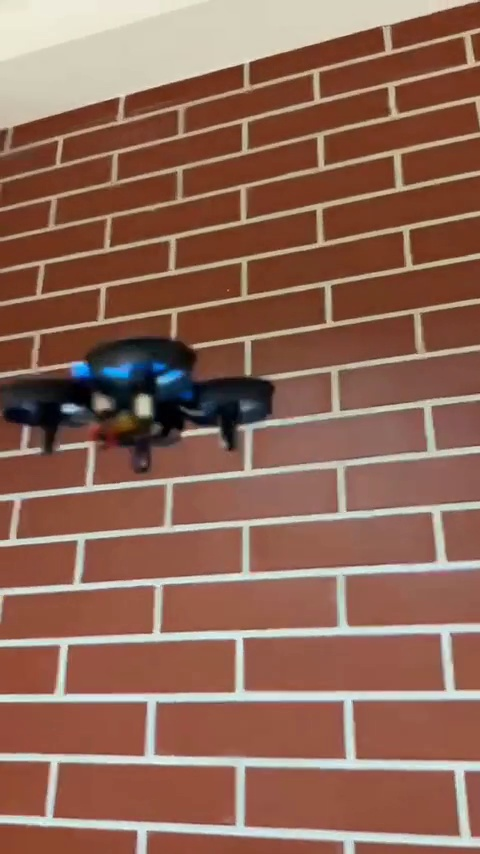drone: (10, 336, 278, 473)
